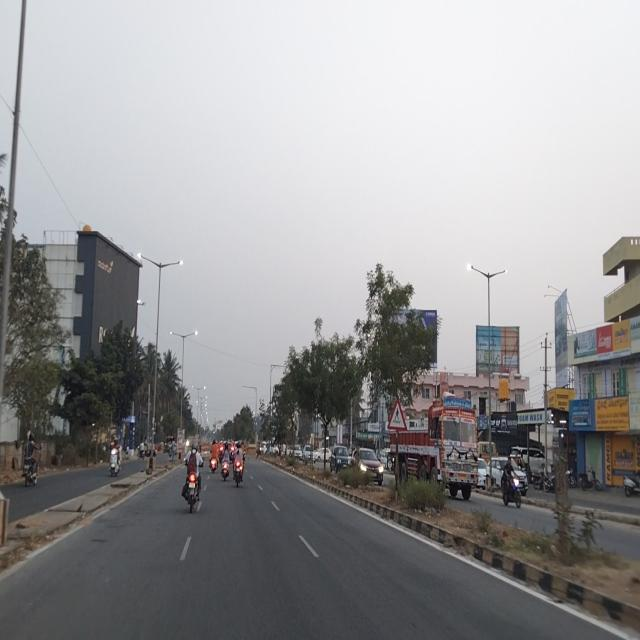bien_cam: (388, 395, 408, 433)
